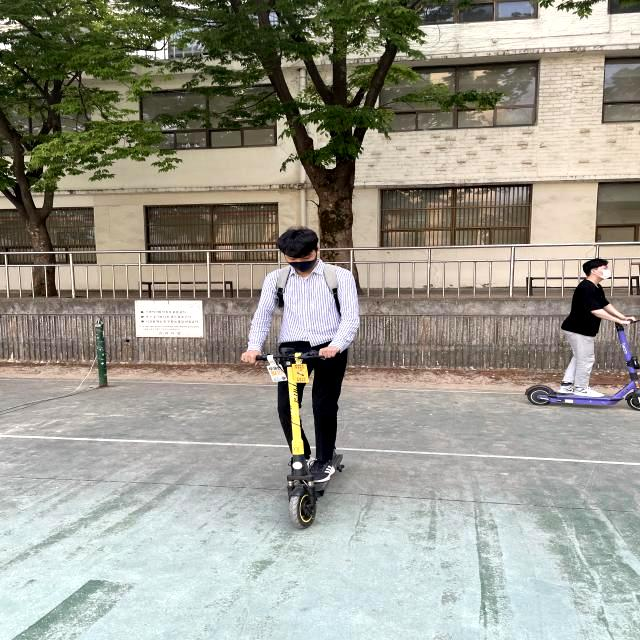bare_head: (269, 220, 330, 278)
human: (250, 209, 368, 480)
kickboard: (272, 461, 377, 538)
